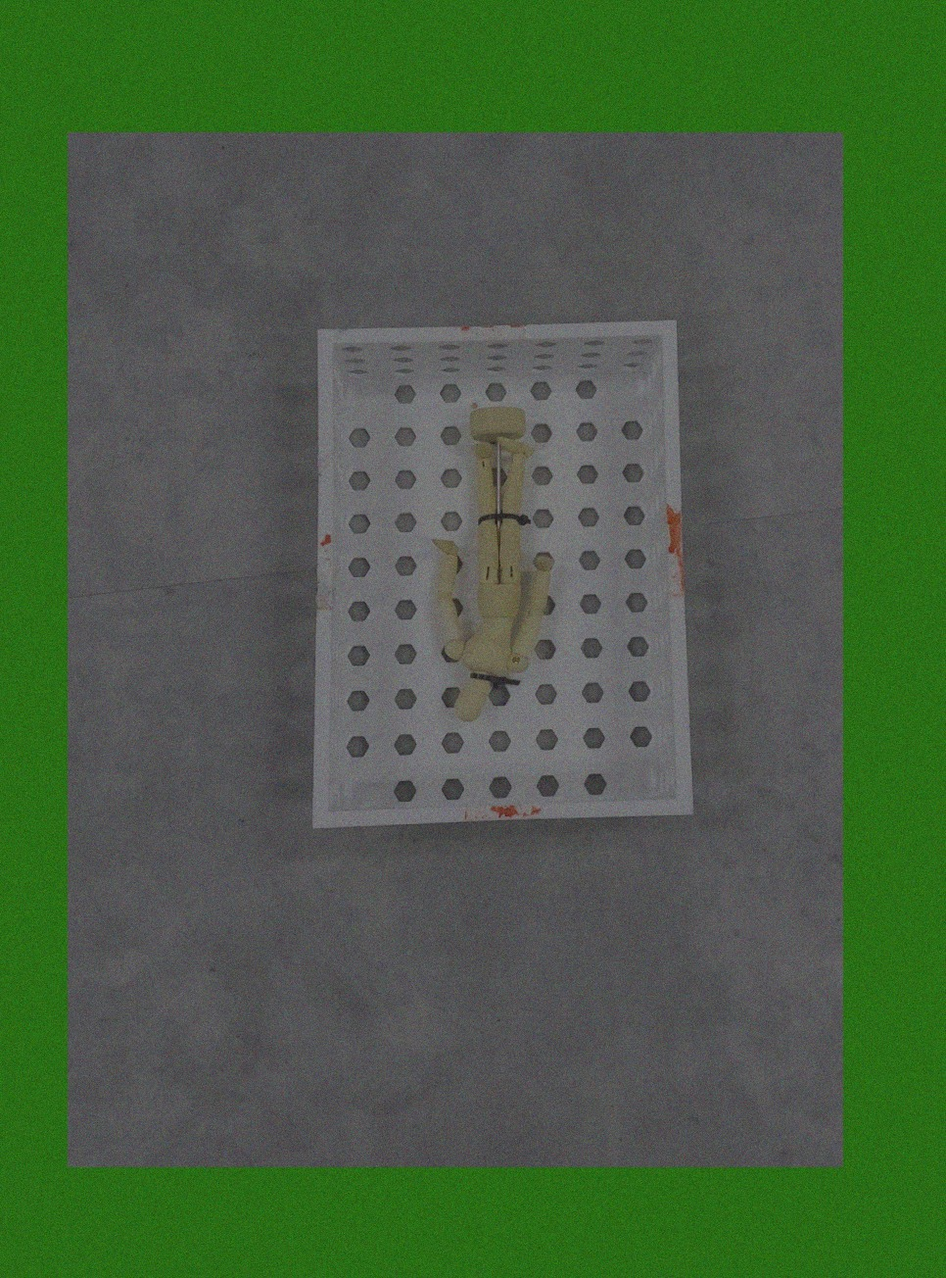basket: (301, 306, 699, 839)
mannequin: (426, 399, 559, 732)
